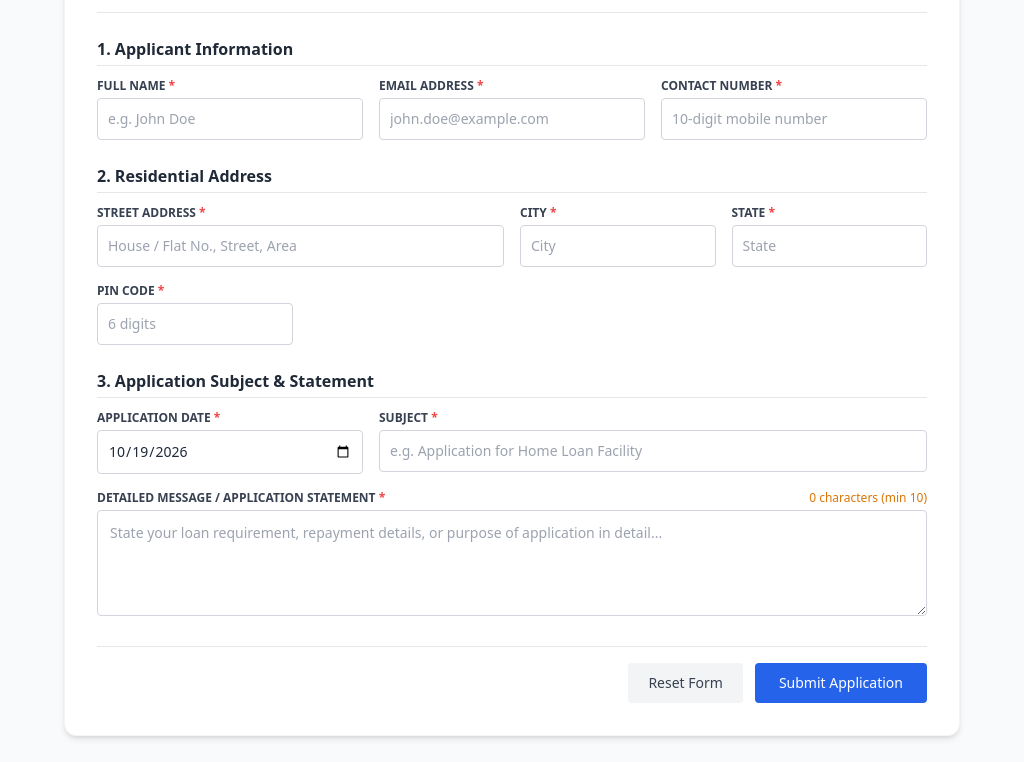
Test: shows validation errors when submitting empty form
(page scrolled)
Click the button "Submit Application" at [841, 683], box [755,663,927,703]
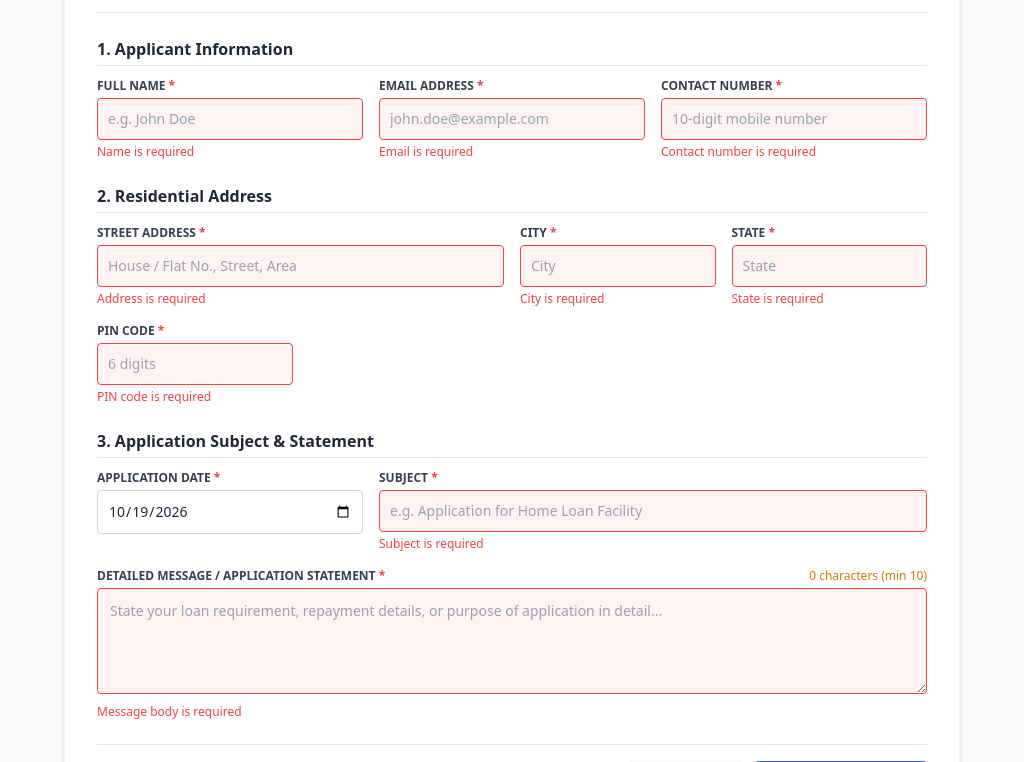
Expected: the text "Name is required" is shown, [97,143,194,160]
Expected: the text "Email is required" is shown, [379,143,473,160]
Expected: the text "Contact number is required" is shown, [661,143,816,160]
